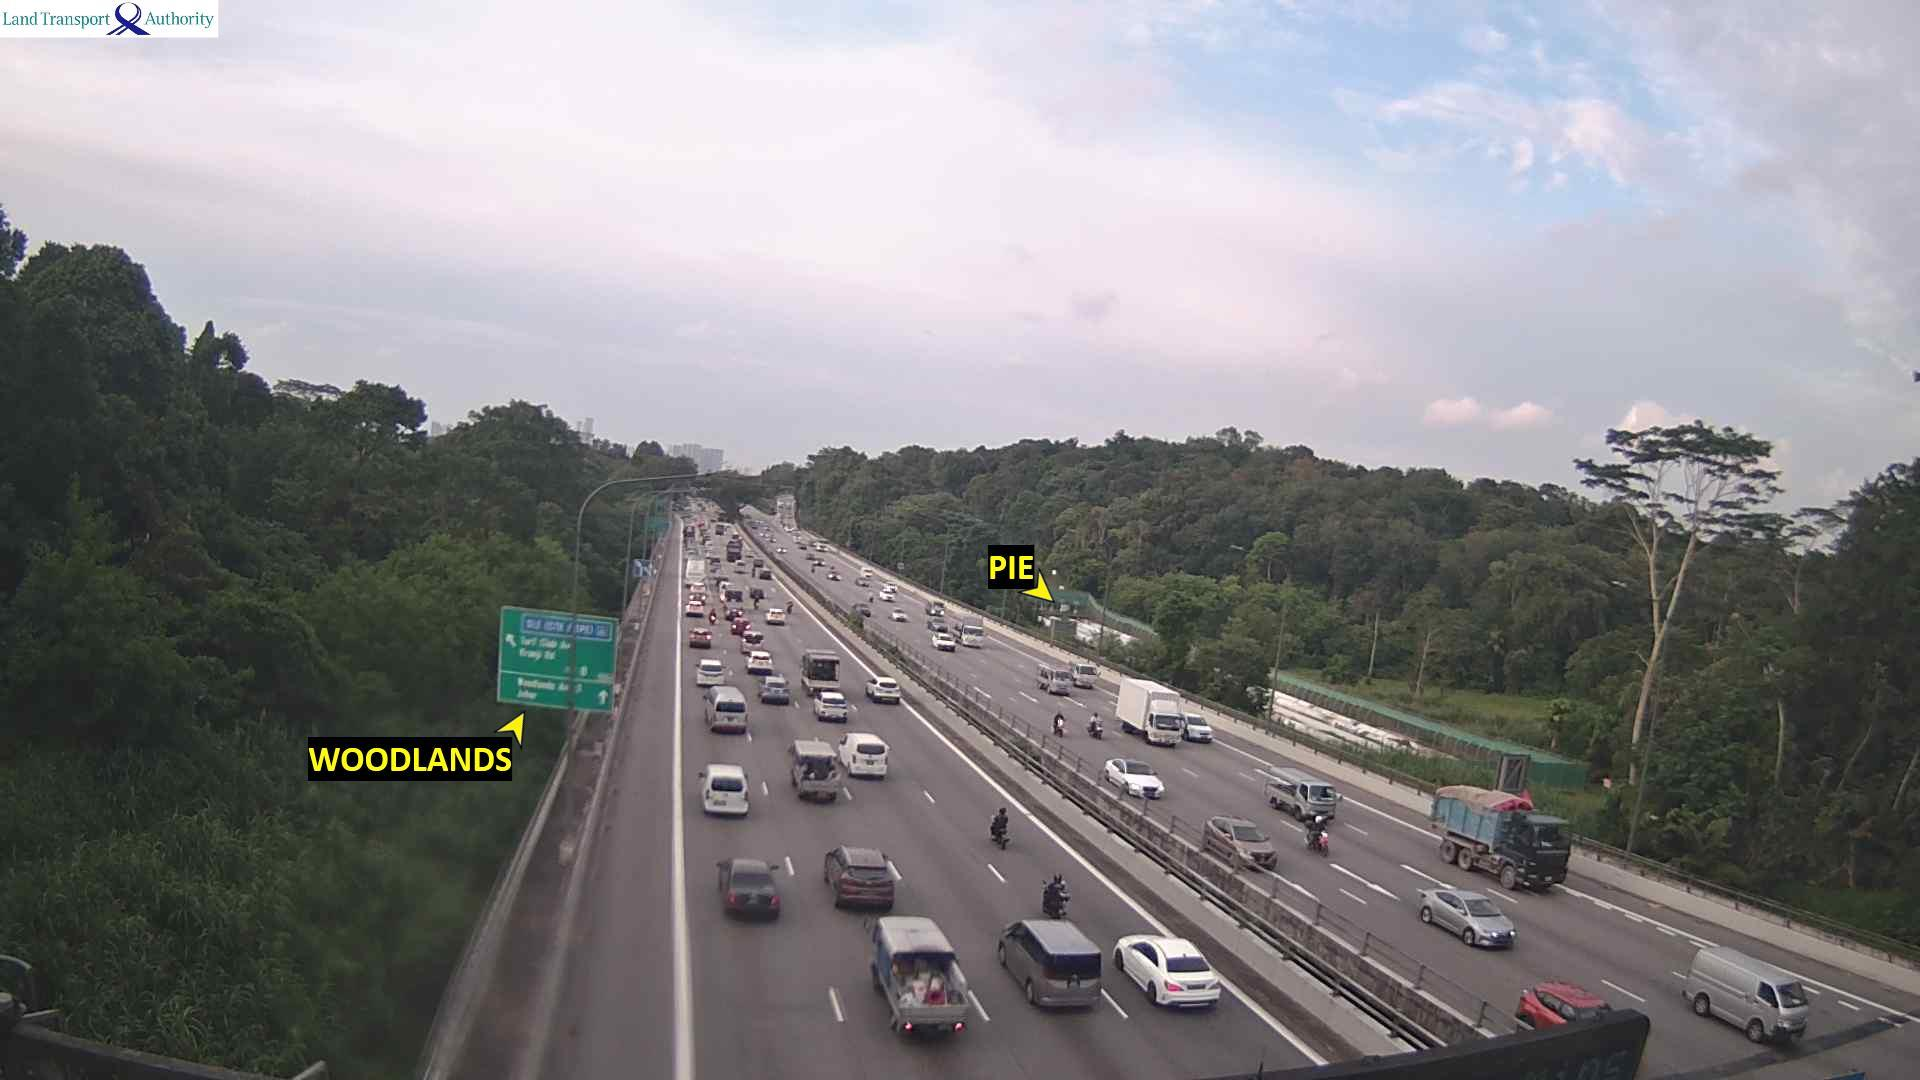incoming: (1511, 820, 1575, 887), (1750, 981, 1807, 1047), (1462, 901, 1519, 951), (1226, 825, 1279, 868), (1150, 698, 1184, 748), (1298, 783, 1340, 823), (1122, 765, 1167, 800), (1185, 715, 1215, 744), (1047, 669, 1076, 696), (963, 622, 986, 647), (1076, 667, 1098, 688), (928, 615, 953, 633), (1316, 827, 1331, 856), (935, 634, 957, 653), (928, 597, 948, 615), (890, 608, 909, 622), (1058, 717, 1065, 736), (1095, 719, 1101, 738)
